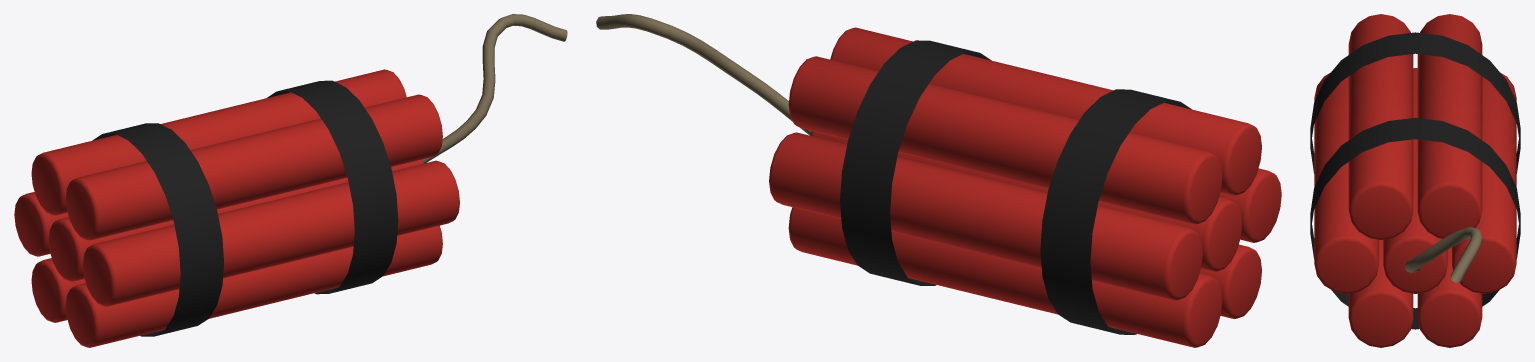
File: dynamite.glb
The picture shows the model from 3 angles, left to right: view 1: azimuth 30°, elevation 25°; view 2: azimuth 150°, elevation 25°; view 3: azimuth 270°, elevation 25°; orthographic projection. The views are drawn at different scales.
Visible parts, largest first — view 1: stick.003, stick.004, stick.005, stick.002, tape.001, tape, stick, fuse_m.001, stick.001, stick.006; view 2: stick.002, stick.001, stick.006, stick.003, tape, tape.001, stick, fuse_m.001, stick.005, stick.004; view 3: stick.003, stick.002, stick.004, stick.001, tape.001, tape, stick.005, stick.006, stick, fuse_m.001.
Part boxes in pixels (<box>): stick.003: <box>65,94,442,240</box>; stick.004: <box>82,160,459,306</box>; stick.005: <box>65,225,442,347</box>; stick.002: <box>31,69,406,215</box>; tape.001: <box>267,80,398,294</box>; tape: <box>92,123,224,336</box>; stick: <box>48,159,423,281</box>; fuse_m.001: <box>423,14,567,163</box>; stick.001: <box>14,192,68,256</box>; stick.006: <box>31,258,85,322</box>; stick.002: <box>788,56,1222,224</box>; stick.001: <box>769,132,1202,300</box>; stick.006: <box>788,207,1222,347</box>; stick.003: <box>830,27,1261,195</box>; tape: <box>1040,89,1191,334</box>; tape.001: <box>840,40,991,285</box>; stick: <box>810,131,1242,271</box>; fuse_m.001: <box>596,14,811,135</box>; stick.005: <box>1199,244,1261,318</box>; stick.004: <box>1219,168,1281,242</box>; stick.003: <box>1348,14,1413,239</box>; stick.002: <box>1417,14,1482,238</box>; stick.004: <box>1314,72,1378,293</box>; stick.001: <box>1452,72,1516,293</box>; tape.001: <box>1310,118,1520,329</box>; tape: <box>1310,32,1520,173</box>; stick.005: <box>1348,240,1413,347</box>; stick.006: <box>1417,247,1482,347</box>; stick: <box>1383,68,1447,293</box>; fuse_m.001: <box>1404,227,1482,282</box>.
Size of the model in its own units: 0.3012 by 0.1053 by 0.104.
